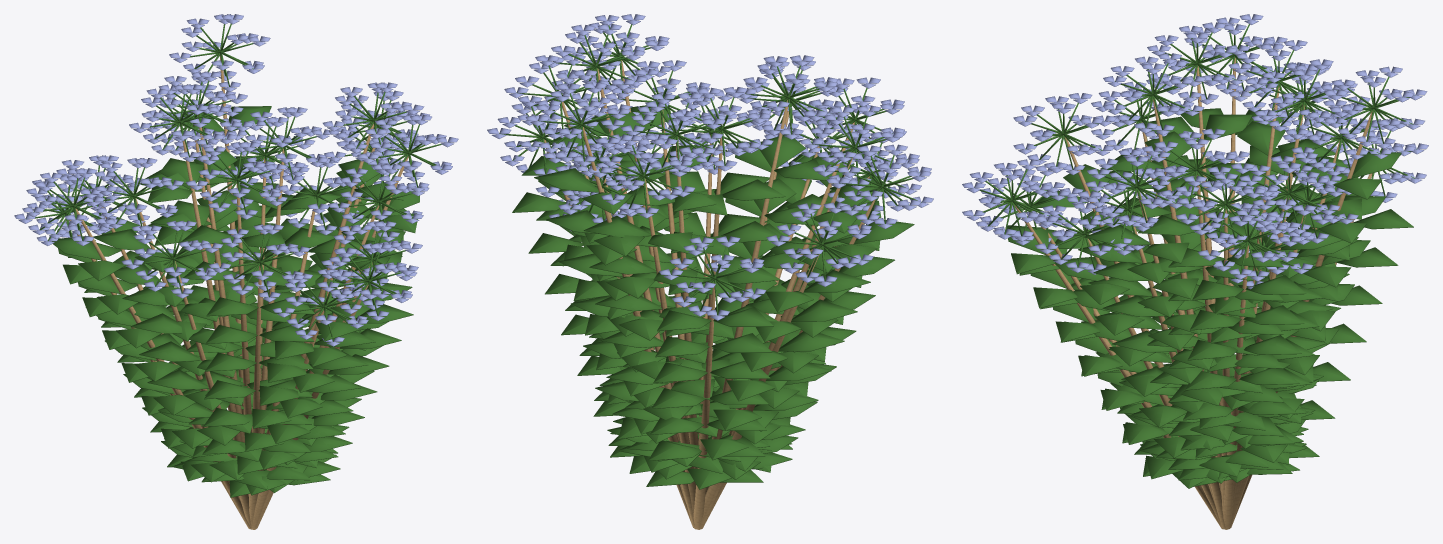
File: hq_hydrangea_cc0_drawmerged.glb
3 renders of one model, left to right at view 1: azimuth 30°, elevation 25°; view 2: azimuth 150°, elevation 25°; view 3: azimuth 270°, elevation 25°, orthographic. The views are drawn at different scales.
Parts seen in each view (by area): view 1: Connected flower pedicels, Shrub flowers, Shrub branching stem; view 2: Connected flower pedicels, Shrub flowers, Shrub branching stem; view 3: Connected flower pedicels, Shrub flowers, Shrub branching stem.
Boxes of the visible parts, x1,y1,x2,y2 form: Connected flower pedicels: (25,24,441,497); Shrub flowers: (14,14,458,346); Shrub branching stem: (68,55,408,529); Connected flower pedicels: (499,24,921,489); Shrub flowers: (487,14,933,320); Shrub branching stem: (544,60,876,529); Connected flower pedicels: (974,24,1416,488); Shrub flowers: (962,14,1428,289); Shrub branching stem: (1014,58,1372,529).
Bounding box in the file's own units: 1.05 × 1.14 × 1.02.
Materials: 3 (3 with a texture image).
